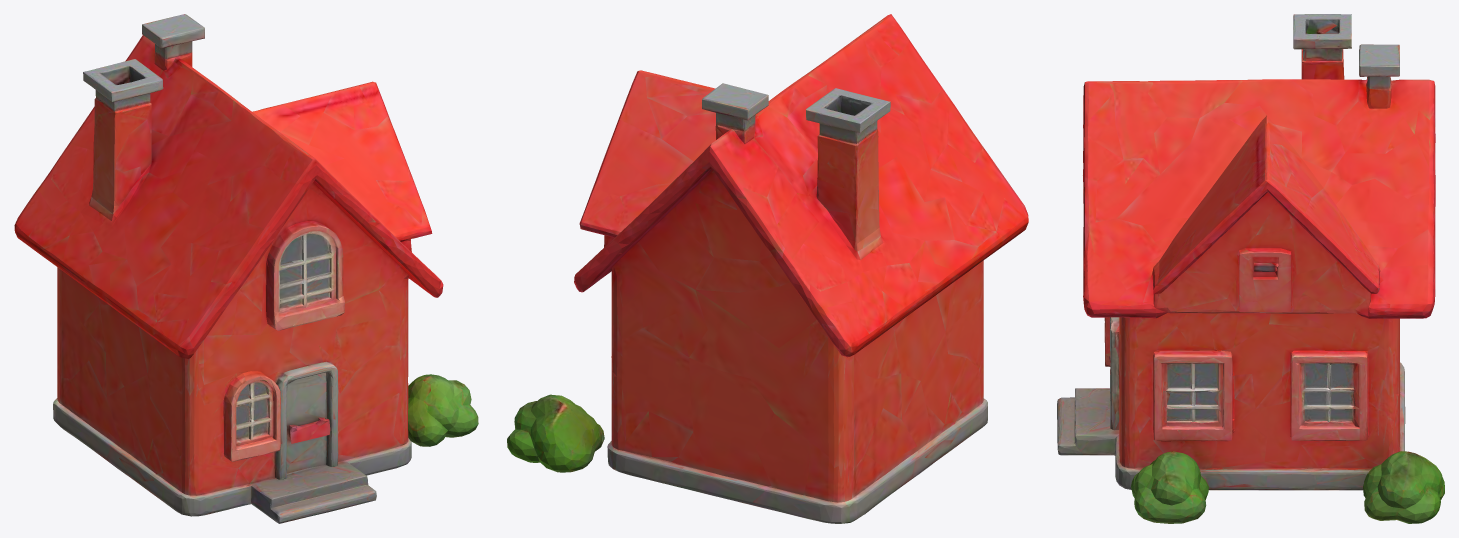
The model's file is house_b.glb.
The picture shows the model from 3 angles, left to right: view 1: azimuth 30°, elevation 25°; view 2: azimuth 150°, elevation 25°; view 3: azimuth 270°, elevation 25°; orthographic projection. The views are drawn at different scales.
Parts seen in each view (by area): view 1: temp_Material.001_0; view 2: temp_Material.001_0; view 3: temp_Material.001_0.
Boxes of the visible parts, bbox=[...] form: temp_Material.001_0: bbox=[14, 14, 478, 523]; temp_Material.001_0: bbox=[507, 14, 1028, 523]; temp_Material.001_0: bbox=[1057, 14, 1444, 523].
Bounding box in the file's own units: 1.87 × 2 × 1.86.
1 material, 1 textured.
